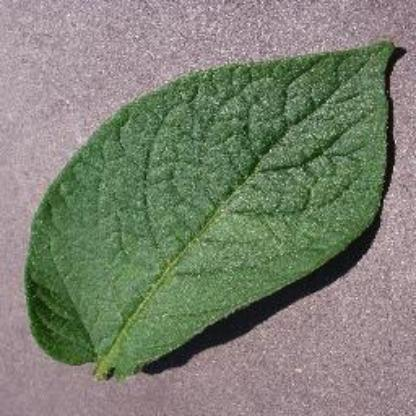Healthy-plant: (23, 37, 396, 385)
